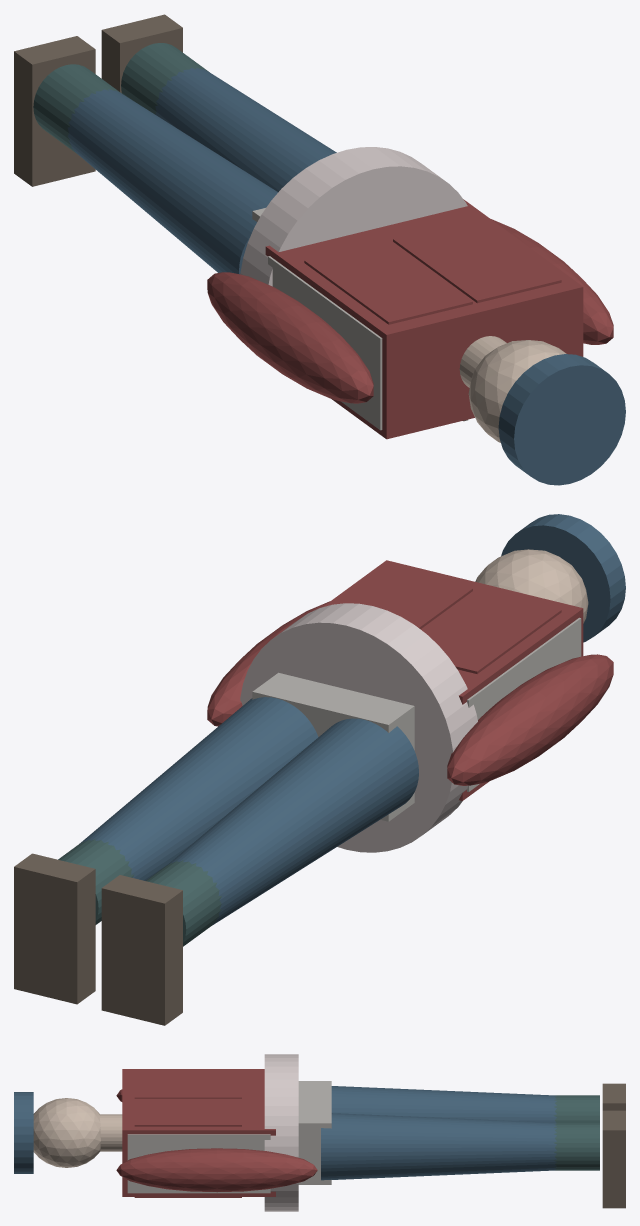
File: MASTER_113_STAGE3_DETAIL.glb
The picture shows the model from 3 angles, top to bottom: view 1: azimuth 30°, elevation 25°; view 2: azimuth 150°, elevation 25°; view 3: azimuth 270°, elevation 25°; orthographic projection. The views are drawn at different scales.
Visible parts, largest first — view 1: slot_upper_inner__këmishë, slot_lower_main__pantallona_L, slot_waist__brez, slot_headwear__mbulesë_koke, slot_upper_inner_sleeve_L, slot_lower_main__pantallona_R, slot_upper_outer__jelek/xhamadan_R, slot_upper_outer__jelek/xhamadan_L, slot_footwear__opinga_L, mannequin_torso, mannequin_head, slot_legwear__çorape_L (+4 smaller); view 2: slot_lower_main__pantallona_L, slot_waist__brez, slot_lower_main__pantallona_R, slot_footwear__opinga_R, slot_footwear__opinga_L, slot_upper_inner_sleeve_L, slot_upper_outer__jelek/xhamadan_L, slot_headwear__mbulesë_koke, mannequin_hips, slot_upper_inner__këmishë, mannequin_head, slot_upper_outer__jelek/xhamadan_R (+4 smaller); view 3: slot_lower_main__pantallona_R, slot_upper_inner_sleeve_R, slot_lower_main__pantallona_L, slot_upper_inner__këmishë, slot_waist__brez, mannequin_head, slot_upper_outer__jelek/xhamadan_R, mannequin_torso, slot_upper_outer__jelek/xhamadan_L, mannequin_hips, slot_footwear__opinga_R, slot_legwear__çorape_R (+4 smaller).
Boxes of the visible parts, x1,y1,x2,y2 form: slot_upper_inner__këmishë: (265,199,583,439); slot_lower_main__pantallona_L: (67,89,277,274); slot_waist__brez: (240,147,467,286); slot_headwear__mbulesë_koke: (498,354,625,485); slot_upper_inner_sleeve_L: (207,272,373,403); slot_lower_main__pantallona_R: (155,68,336,192); slot_upper_outer__jelek/xhamadan_R: (393,218,561,303); slot_upper_outer__jelek/xhamadan_L: (304,240,472,324); slot_footwear__opinga_L: (14,36,95,186); mannequin_torso: (268,256,382,430); mannequin_head: (468,340,566,442); slot_legwear__çorape_L: (33,64,121,154); slot_lower_main__pantallona_L: (167,718,418,925); slot_waist__brez: (240,603,477,852); slot_lower_main__pantallona_R: (79,697,318,880); slot_footwear__opinga_R: (14,853,95,1004); slot_footwear__opinga_L: (101,875,182,1025); slot_upper_inner_sleeve_L: (447,654,613,785); slot_upper_outer__jelek/xhamadan_L: (422,589,561,673); slot_headwear__mbulesë_koke: (501,514,625,642); mannequin_hips: (252,672,414,821); slot_upper_inner__këmishë: (322,560,583,800); mannequin_head: (475,549,588,623); slot_upper_outer__jelek/xhamadan_R: (340,568,472,629); slot_lower_main__pantallona_R: (321,1113,556,1180); slot_upper_inner_sleeve_R: (116,1148,317,1192); slot_lower_main__pantallona_L: (331,1086,556,1122); slot_upper_inner__këmishë: (122,1069,275,1196); slot_waist__brez: (264,1054,298,1211); mannequin_head: (33,1098,100,1167); slot_upper_outer__jelek/xhamadan_R: (134,1098,241,1197); mannequin_torso: (127,1134,270,1193); slot_upper_outer__jelek/xhamadan_L: (134,1071,241,1098); mannequin_hips: (298,1081,331,1184); slot_footwear__opinga_R: (602,1110,625,1208); slot_legwear__çorape_R: (554,1122,599,1170).
Bounding box in the file's own units: 0.6161 × 0.44 × 1.71.
